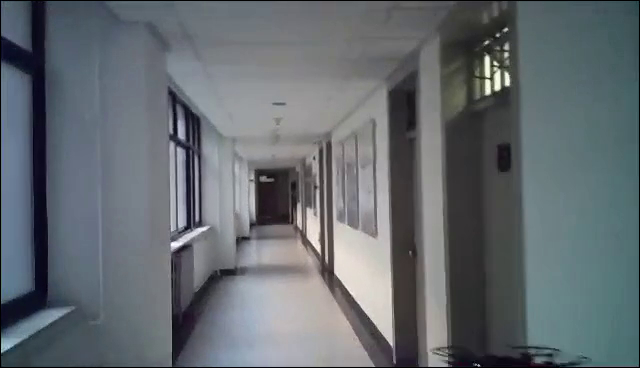drone: (431, 343, 592, 368)
